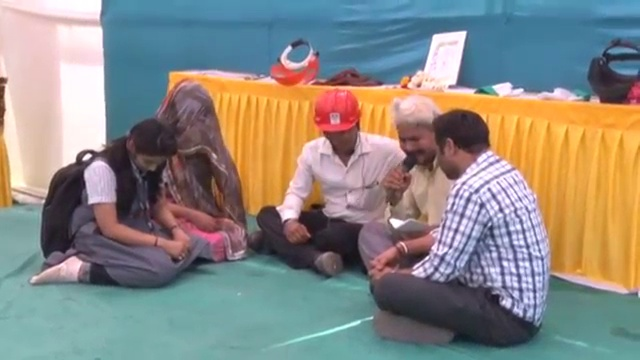helmet: (309, 96, 363, 135)
helmet_off: (434, 108, 493, 178), (160, 80, 219, 145), (121, 116, 179, 180), (394, 96, 442, 168)
helmet_on: (308, 97, 365, 157)
person: (364, 102, 545, 342), (31, 116, 200, 290), (249, 94, 399, 276), (147, 72, 251, 258), (357, 96, 457, 276)
